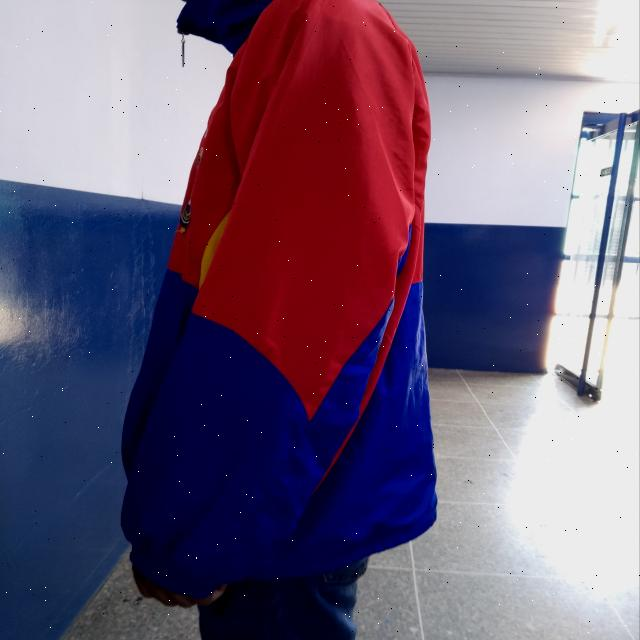chaqueta_unefa: (130, 1, 440, 566)
